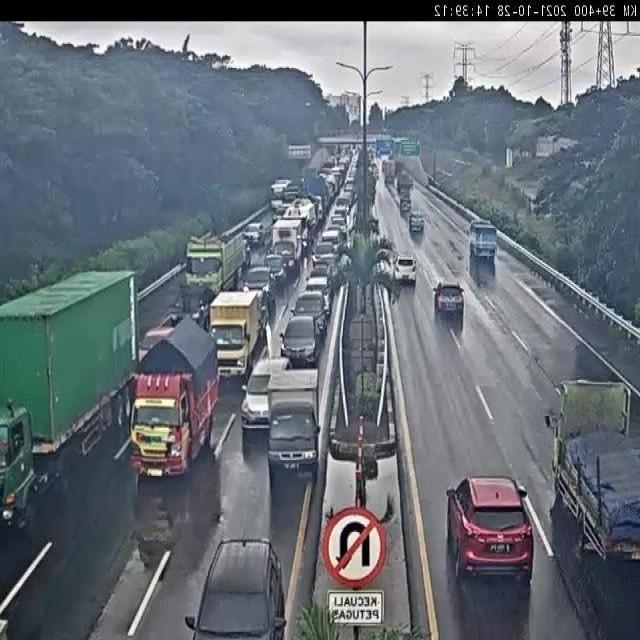Car: (186, 539, 290, 640), (446, 472, 534, 582), (240, 353, 292, 427), (278, 313, 320, 368), (435, 271, 467, 327), (296, 291, 321, 343), (242, 270, 272, 304), (391, 251, 418, 288), (312, 240, 338, 274), (308, 276, 330, 314), (408, 212, 427, 240)
Truck: (0, 271, 139, 535), (542, 386, 640, 568), (125, 322, 212, 472), (268, 363, 321, 478), (174, 234, 245, 304), (206, 294, 260, 378), (272, 220, 302, 280), (466, 216, 501, 261)
